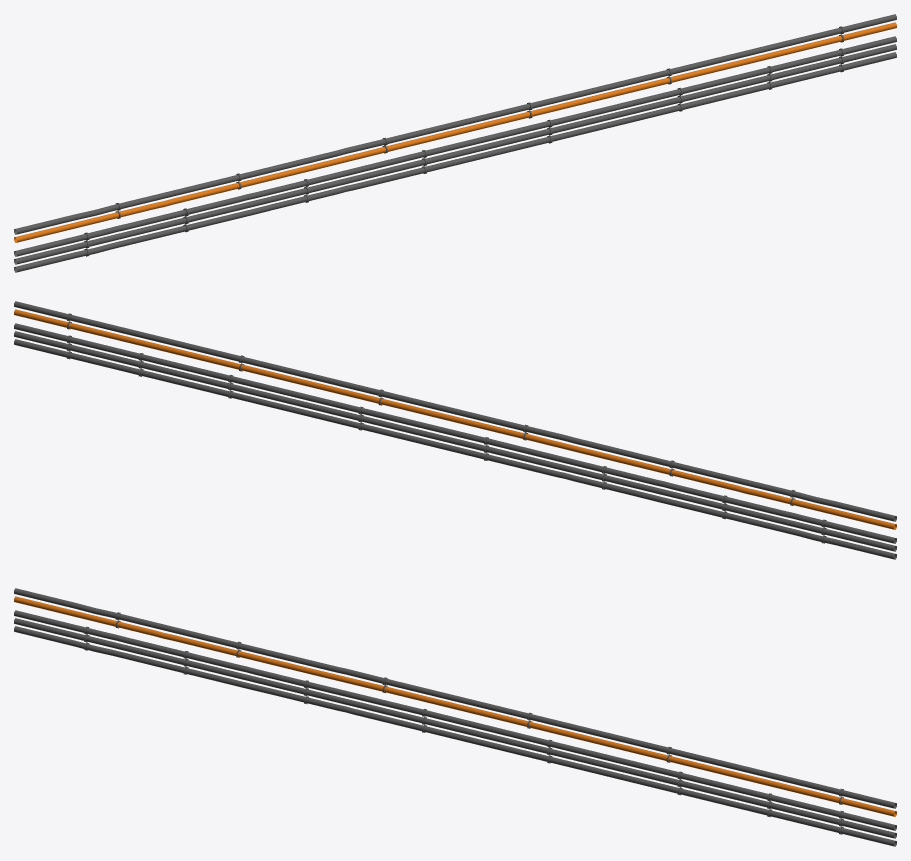
Rendered from SM_H_Building_Tide_Ventilate_02i_ATLAS.fbx.
3 views of the same model, one above another, from view 1: azimuth 30°, elevation 25°; view 2: azimuth 150°, elevation 25°; view 3: azimuth 330°, elevation 25° (orthographic).
Visible parts, largest first — view 1: SM_H_Building_Tide_Ventilate_02i_ATLAS; view 2: SM_H_Building_Tide_Ventilate_02i_ATLAS; view 3: SM_H_Building_Tide_Ventilate_02i_ATLAS.
Part boxes in pixels (<box>): SM_H_Building_Tide_Ventilate_02i_ATLAS: <box>14,14,896,272</box>; SM_H_Building_Tide_Ventilate_02i_ATLAS: <box>14,301,896,559</box>; SM_H_Building_Tide_Ventilate_02i_ATLAS: <box>14,588,896,846</box>.
Size of the model in its own units: 1707 by 12.63 by 85.13.
